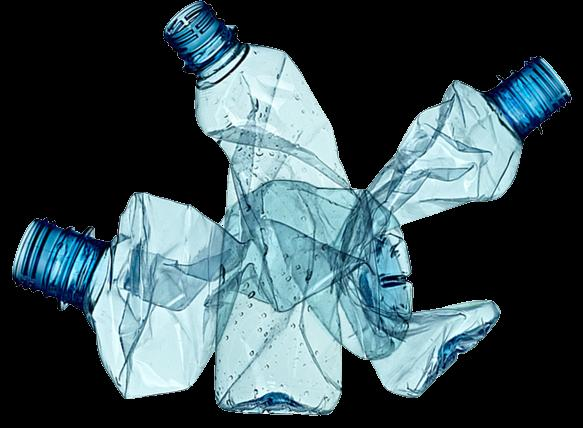Plastik: (165, 0, 361, 420), (356, 45, 573, 399), (6, 183, 208, 403)
